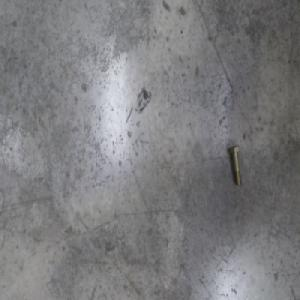Bolt: (229, 143, 242, 186)
